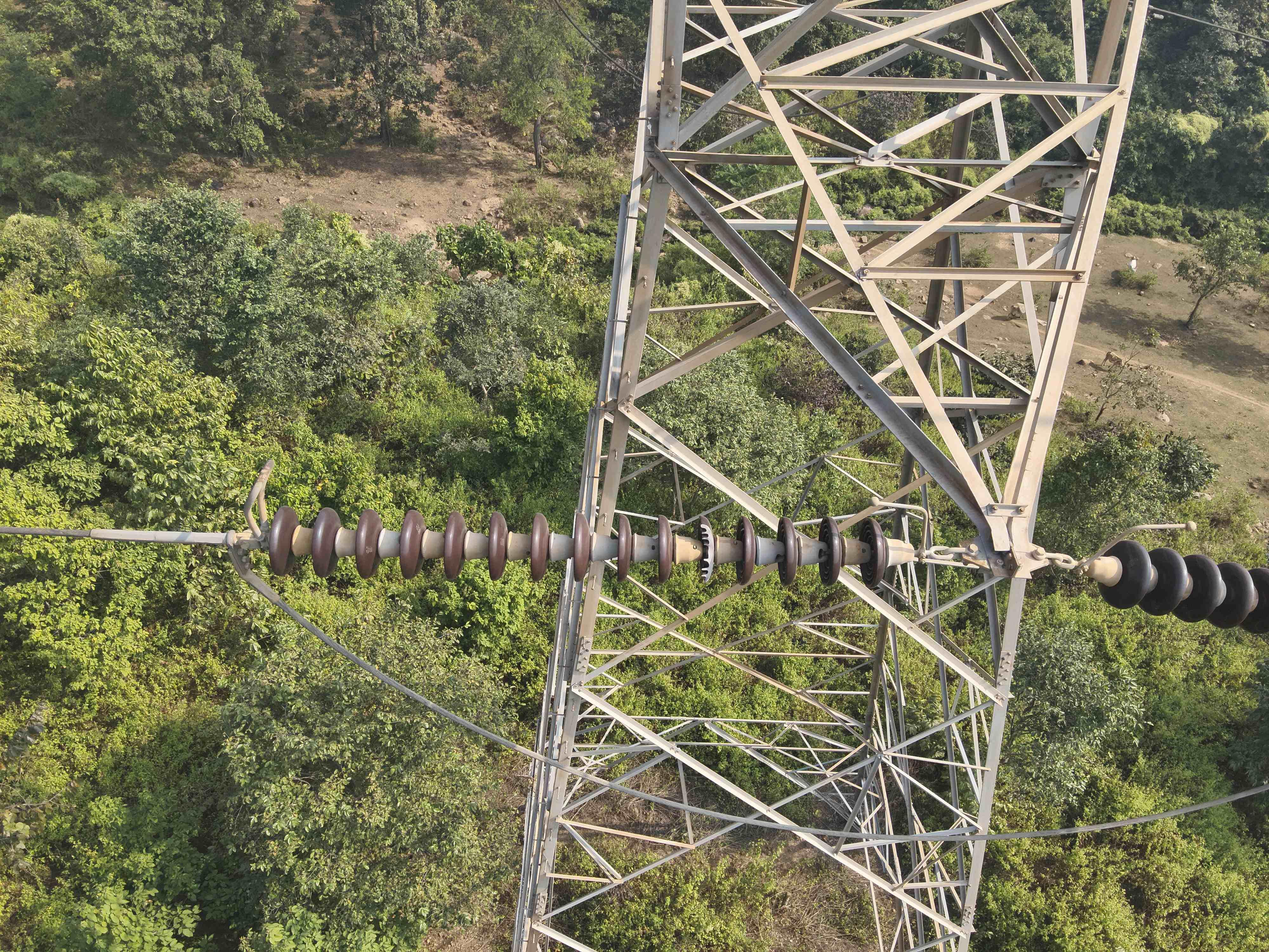broken_insulator: (687, 515, 720, 592)
